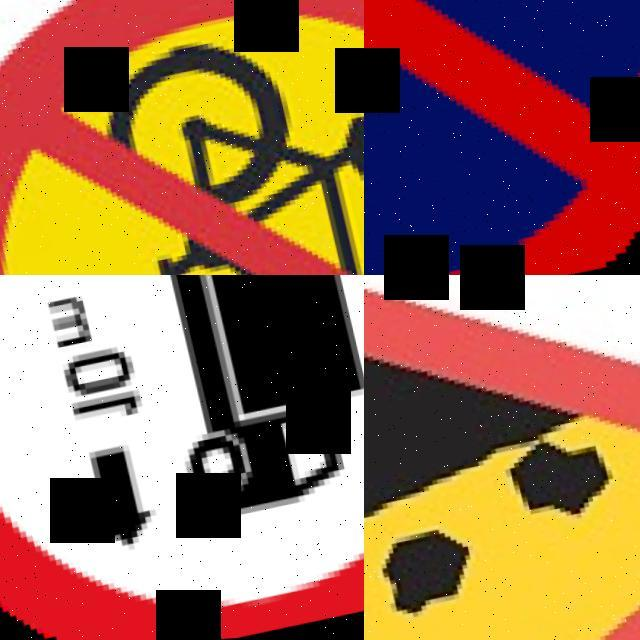158: (364, 275, 640, 640)
39: (0, 0, 364, 275)
No stopping: (364, 0, 640, 275)
length limit-10m: (0, 275, 364, 640)
